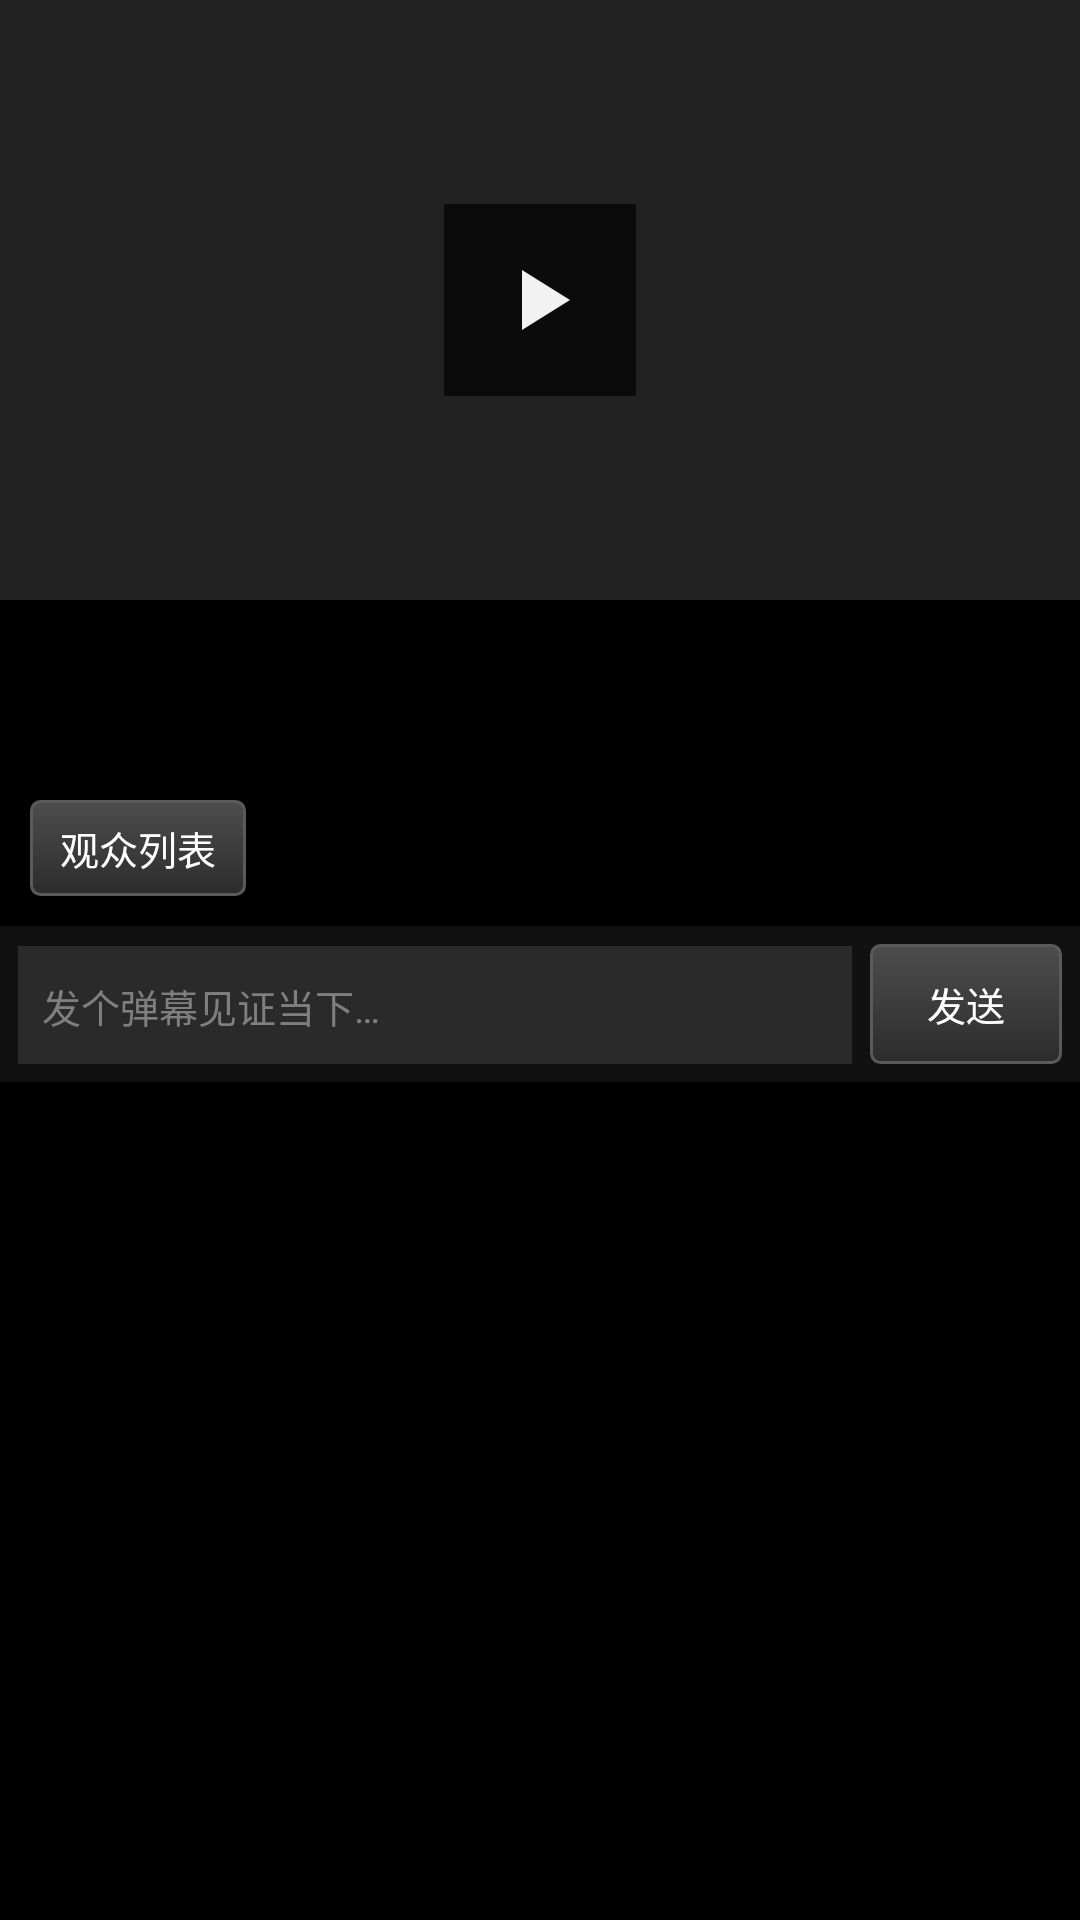

Icon bounding boxes for this 1080×1920 phone screenshot, format (x1, y1, x2, y2):
play: (522, 270, 570, 330)
